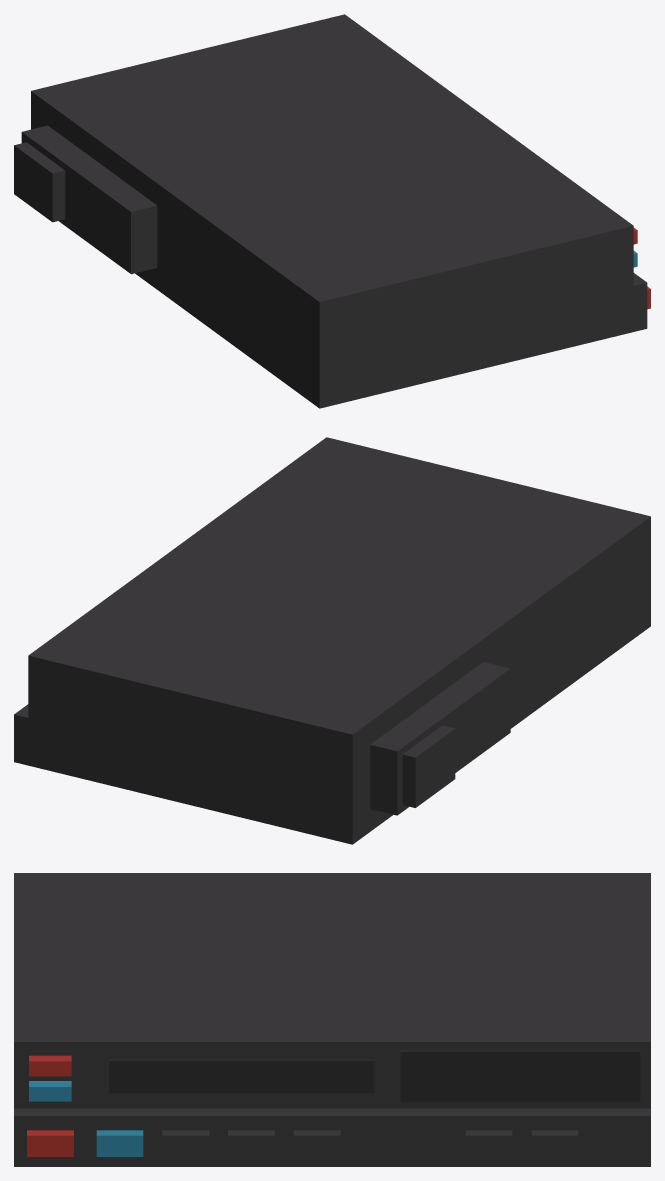
Rendered from SM_VHSplayer_01.glb.
3 views of the same model, one above another, from view 1: azimuth 30°, elevation 25°; view 2: azimuth 150°, elevation 25°; view 3: azimuth 270°, elevation 25° (orthographic). The views are drawn at different scales.
Visible parts, largest first — view 1: SM_VHSplayer_01; view 2: SM_VHSplayer_01; view 3: SM_VHSplayer_01.
Part boxes in pixels (x1=…): SM_VHSplayer_01: x1=14, y1=14, x2=650, y2=408; SM_VHSplayer_01: x1=14, y1=437, x2=650, y2=844; SM_VHSplayer_01: x1=14, y1=873, x2=650, y2=1166.
Size of the model in its own units: 0.4784 by 0.1294 by 0.636.
1 material, 1 textured.
